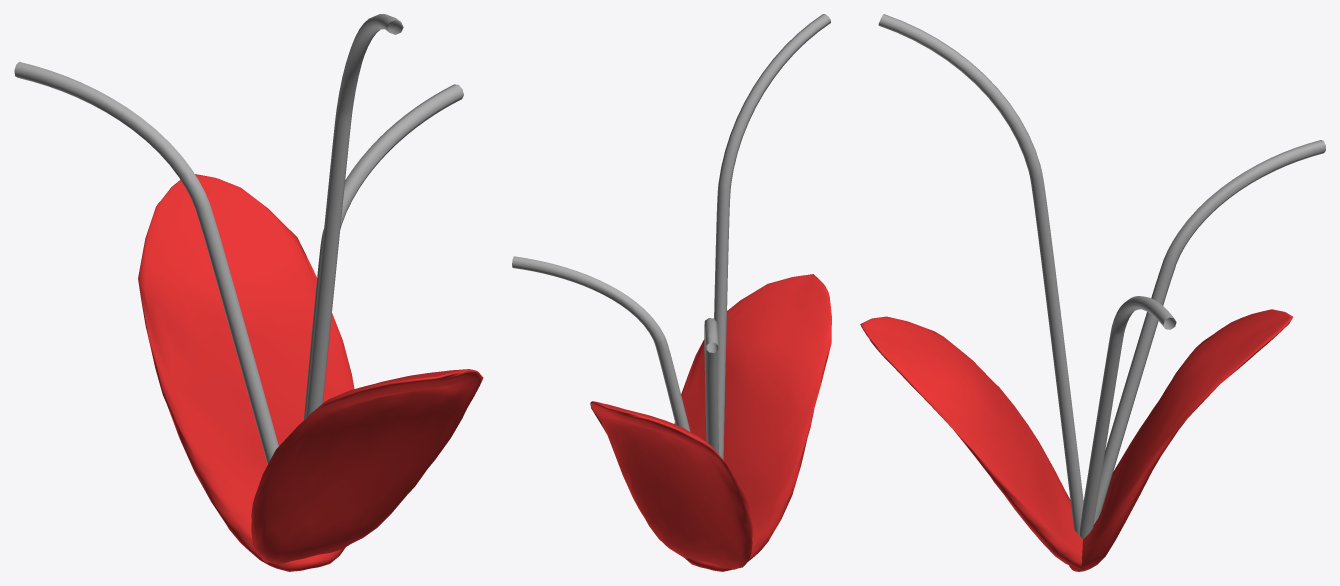
The model's file is LongStem.fbx.
The picture shows the model from 3 angles, left to right: view 1: azimuth 30°, elevation 25°; view 2: azimuth 150°, elevation 25°; view 3: azimuth 270°, elevation 25°; orthographic projection. The views are drawn at different scales.
Parts seen in each view (by area): view 1: leaf1, leaf2, stem2, stem1, stem3; view 2: leaf2, leaf1, stem1, stem3, stem2; view 3: leaf2, leaf1, stem1, stem2, stem3.
Boxes of the visible parts, left/top/right/bottom form: leaf1: left=138, top=174, right=354, bottom=571; leaf2: left=251, top=369, right=483, bottom=564; stem2: left=14, top=61, right=278, bottom=464; stem1: left=305, top=14, right=403, bottom=419; stem3: left=303, top=84, right=463, bottom=420; leaf2: left=674, top=274, right=831, bottom=571; leaf1: left=590, top=401, right=752, bottom=569; stem1: left=714, top=14, right=830, bottom=460; stem3: left=512, top=256, right=690, bottom=431; stem2: left=704, top=318, right=718, bottom=453; leaf2: left=860, top=316, right=1082, bottom=568; leaf1: left=1069, top=309, right=1293, bottom=571; stem1: left=878, top=14, right=1083, bottom=535; stem2: left=1093, top=140, right=1325, bottom=524; stem3: left=1080, top=296, right=1176, bottom=539.
Size of the model in its own units: 49.45 by 84.52 by 66.54.
